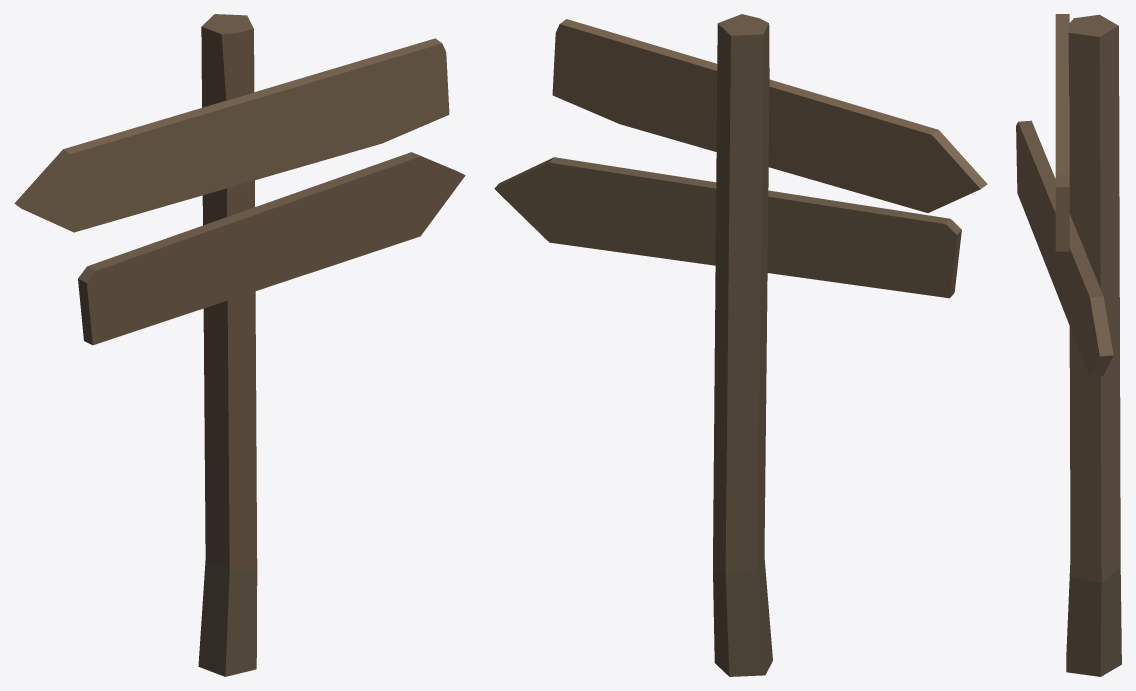
The model's file is SM_Props_Farm_WoodArrowSign_03.fbx.
3 renders of one model, left to right at view 1: azimuth 30°, elevation 25°; view 2: azimuth 150°, elevation 25°; view 3: azimuth 270°, elevation 25°, orthographic.
Parts seen in each view (by area): view 1: SM_Props_Farm_WoodArrowSign_03; view 2: SM_Props_Farm_WoodArrowSign_03; view 3: SM_Props_Farm_WoodArrowSign_03.
Part boxes in pixels (left/top/right/bottom): SM_Props_Farm_WoodArrowSign_03: left=14, top=14, right=465, bottom=676; SM_Props_Farm_WoodArrowSign_03: left=494, top=14, right=987, bottom=676; SM_Props_Farm_WoodArrowSign_03: left=1016, top=14, right=1121, bottom=676.
Size of the model in its own units: 93 by 122 by 18.32.
